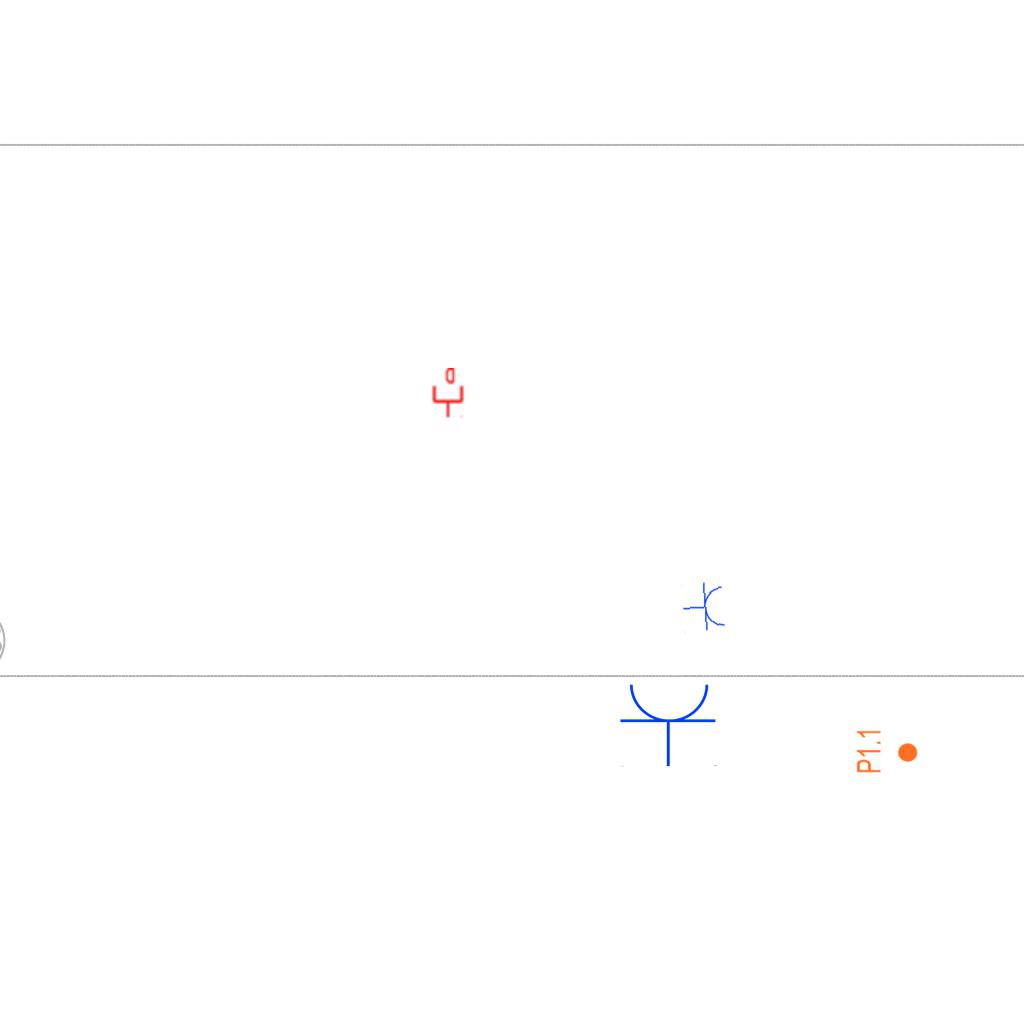Datenanschluss_einfach: (431, 368, 465, 418)
Downlight_LED_Einbauleuchten_Flur: (855, 728, 919, 774)
Schukosteckdose_einfach: (619, 680, 719, 767), (680, 581, 728, 634)
